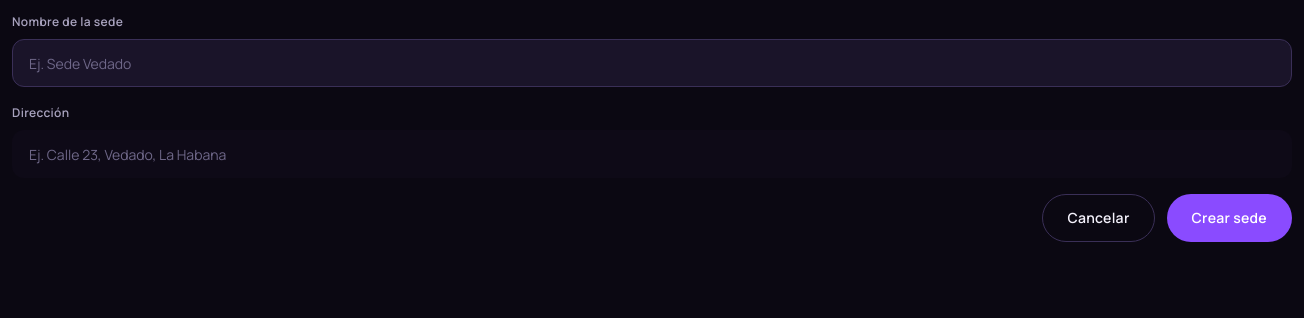
Test case: SiteForm › validates both required fields before calling the API
The width and height of the screenshot is (1304, 318).
Click the button "Crear sede". click: {"x": 1229, "y": 218}
box: top-left (1167, 194), bottom-right (1292, 242)
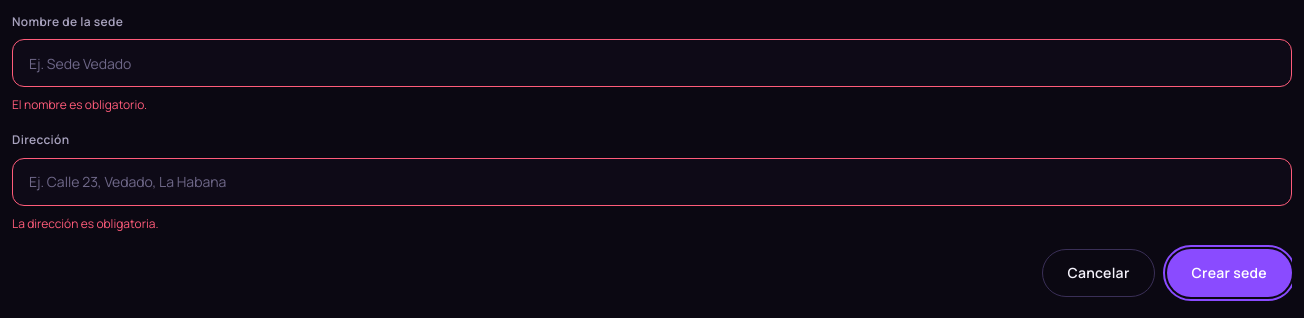
Expected: the text "El nombre es obligatorio." is shown, top-left (12, 96), bottom-right (147, 113)
Expected: the text "La dirección es obligatoria." is shown, top-left (12, 215), bottom-right (158, 232)
